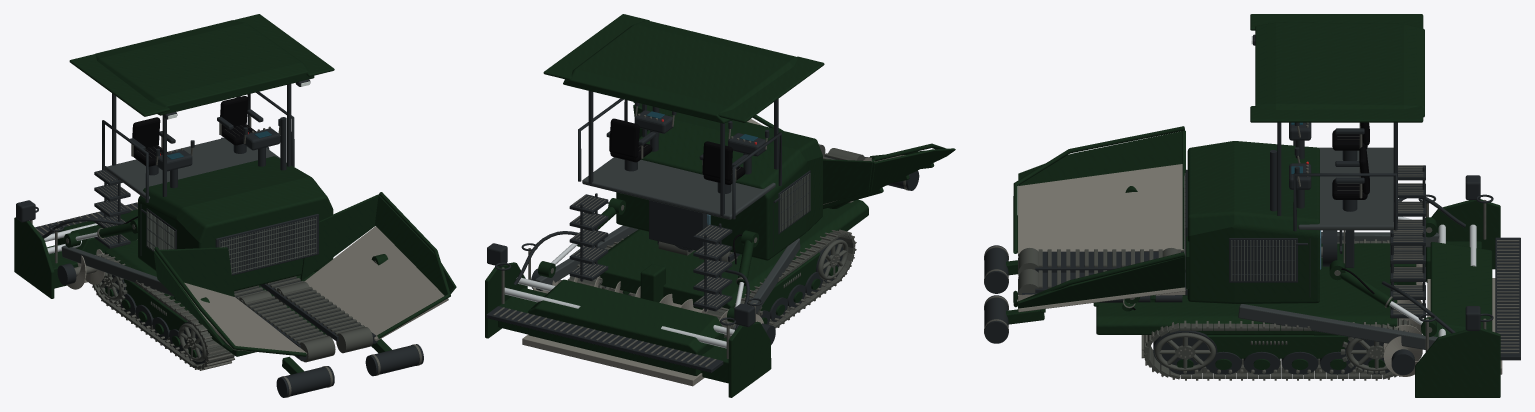
File: paver.glb
3 views of the same model, side by side, from view 1: azimuth 30°, elevation 25°; view 2: azimuth 150°, elevation 25°; view 3: azimuth 270°, elevation 25° (orthographic). The views are drawn at different scales.
Visible parts, largest first — view 1: hopper, engine_cover, canopy, operator, chassis, screed, track_-1, auger; view 2: screed, canopy, operator, engine_cover, chassis, track_-1, hopper, engine, auger; view 3: hopper, screed, engine_cover, canopy, chassis, operator, track_1, auger, engine.
Boxes of the visible parts, box(x1,y1,x2,y2) form: hopper: box(153, 192, 456, 397); engine_cover: box(138, 117, 333, 291); canopy: box(69, 14, 334, 196); operator: box(94, 91, 294, 248); chassis: box(104, 240, 372, 362); screed: box(14, 147, 269, 298); track_-1: box(92, 253, 234, 370); auger: box(57, 239, 137, 289); screed: box(485, 198, 800, 397); canopy: box(543, 14, 824, 216); operator: box(569, 98, 781, 311); engine_cover: box(616, 106, 822, 260); chassis: box(597, 144, 868, 309); track_-1: box(705, 229, 856, 337); hopper: box(633, 101, 955, 208); engine: box(649, 200, 710, 250); auger: box(531, 264, 775, 344); hopper: box(984, 126, 1189, 343); screed: box(1238, 175, 1520, 397); engine_cover: box(1184, 141, 1319, 303); canopy: box(1250, 14, 1424, 222); chassis: box(1018, 243, 1397, 335); operator: box(1289, 122, 1425, 318); track_1: box(1141, 318, 1416, 380); auger: box(1383, 264, 1422, 376); engine: box(1320, 230, 1354, 269).
Bounding box in the file's own units: 3.95 × 3.64 × 6.46.
Materials: 15 (3 with a texture image).
